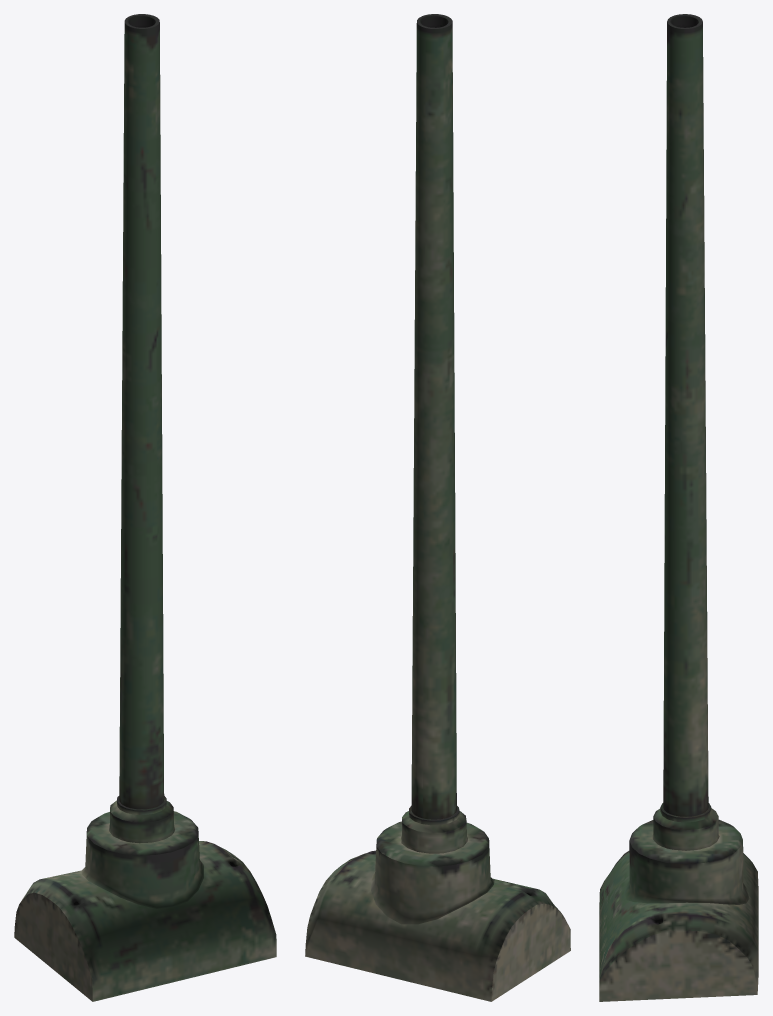
The model's file is Gun_01.glb.
3 views of the same model, side by side, from view 1: azimuth 30°, elevation 25°; view 2: azimuth 150°, elevation 25°; view 3: azimuth 270°, elevation 25° (orthographic).
Visible parts, largest first — view 1: set_0_group_0; view 2: set_0_group_0; view 3: set_0_group_0.
Boxes of the visible parts, x1,y1,x2,y2 form: set_0_group_0: (14,14,276,1001); set_0_group_0: (305,14,570,1001); set_0_group_0: (599,14,758,1001).
Bounding box in the file's own units: 0.6623 × 3.18 × 0.4924.
Materials: 1 (1 with a texture image).
